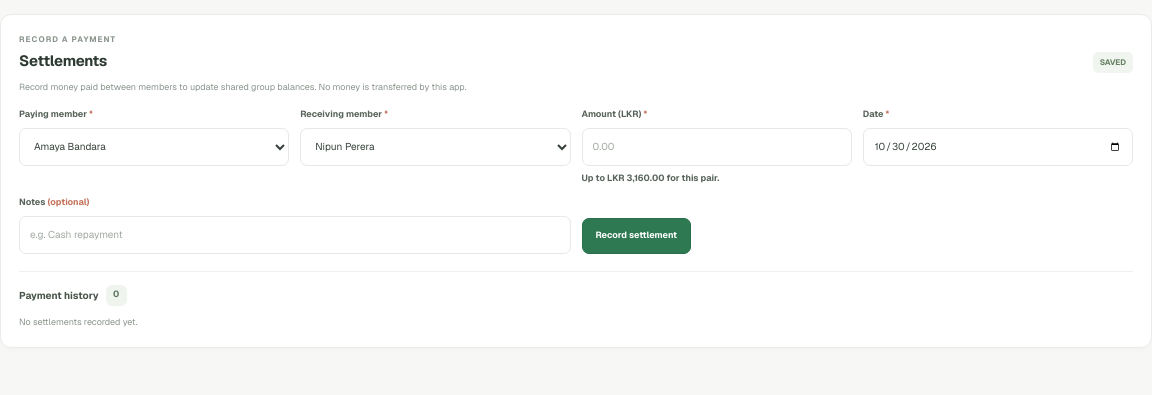
Scenario: management screens in Supabase mode › shows settlement labels and reports saved balances
This screenshot has width=1152, height=395.
Check: the text "SAVED" is shown, box [1093,52,1133,72]
Check: the text "Record money paid between members to update shared group balances. No money is transferred by this app." is shown, box [19,80,466,92]
Type "100.00" into the field labelled "Amount (LKR) * Up to LKR 3,160.00 for this pair." at (717, 146), box [582,128,852,166]
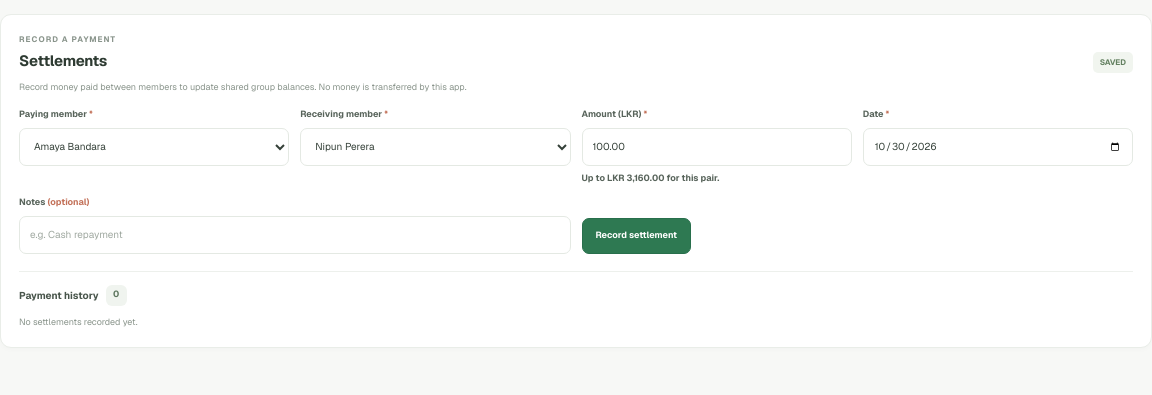
Click the button "Record settlement" at (636, 236), box [582,218,691,254]
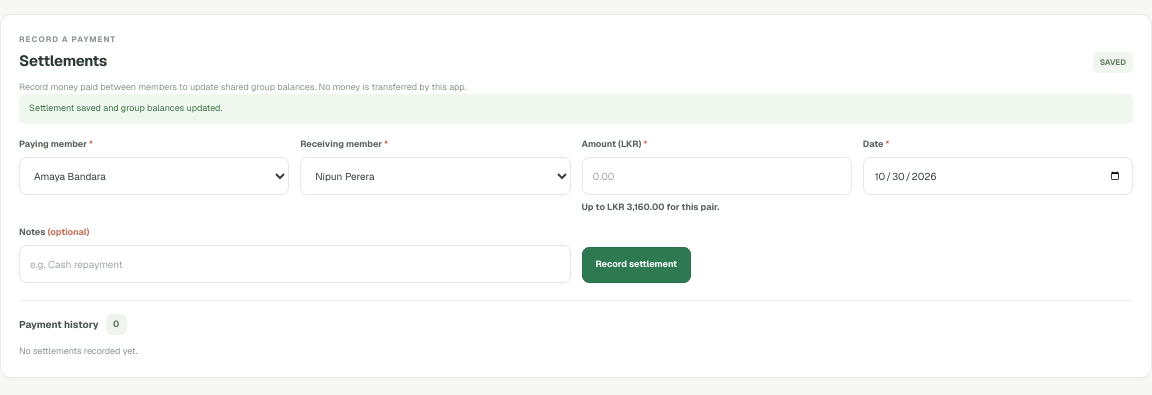
Check: the message reads "Settlement saved and group balances updated.", box [29,102,222,114]
